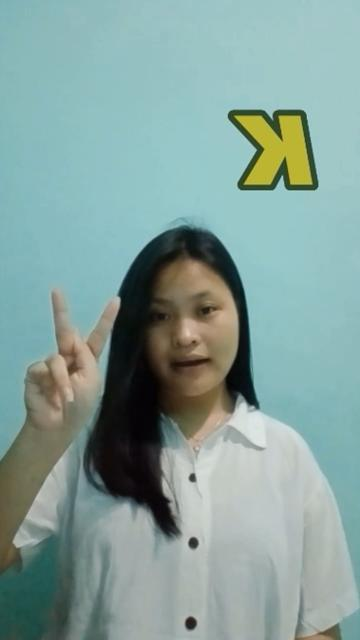K: (22, 288, 122, 444)
